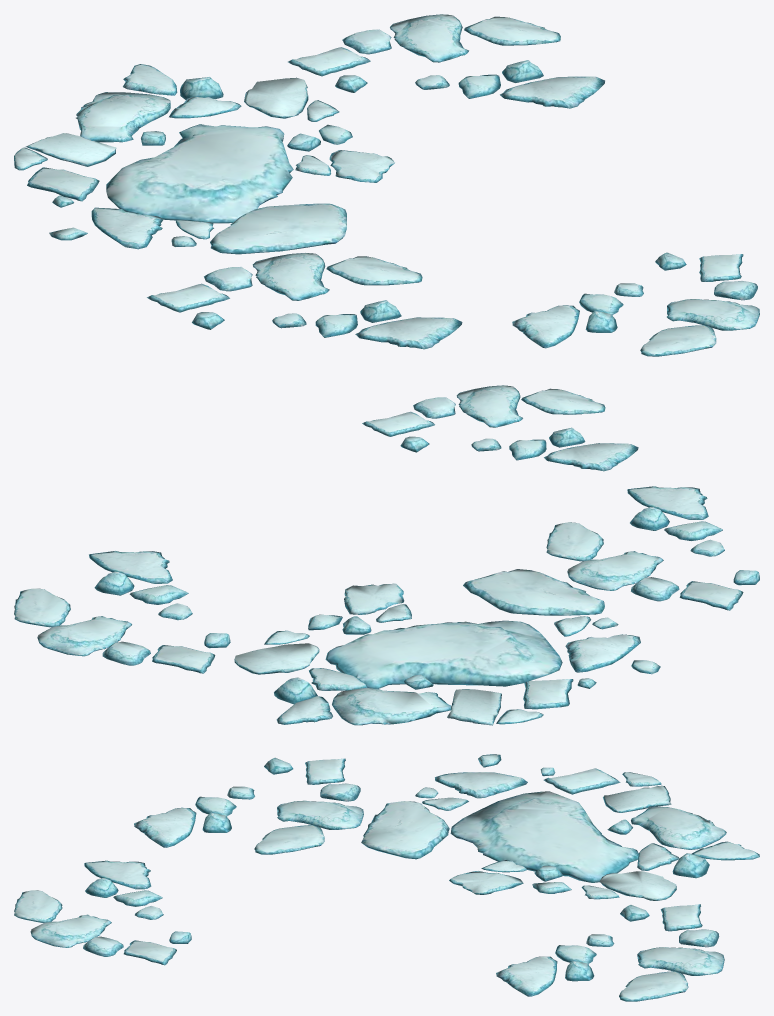
The model's file is ice_sheet_med_1.glb.
The picture shows the model from 3 angles, top to bottom: view 1: azimuth 30°, elevation 25°; view 2: azimuth 150°, elevation 25°; view 3: azimuth 270°, elevation 25°; orthographic projection. The views are drawn at different scales.
Visible parts, largest first — view 1: ice_sheet_e, ice_sheet_h (×3); view 2: ice_sheet_e, ice_sheet_h (×3); view 3: ice_sheet_e, ice_sheet_h (×3).
Part boxes in pixels (bbox=[...]): ice_sheet_e: bbox=[14, 64, 394, 254]; ice_sheet_h (×3): bbox=[147, 14, 759, 356]; ice_sheet_e: bbox=[234, 569, 660, 725]; ice_sheet_h (×3): bbox=[14, 385, 759, 673]; ice_sheet_e: bbox=[361, 754, 759, 900]; ice_sheet_h (×3): bbox=[14, 757, 724, 1001].
Bounding box in the file's own units: 31.27 × 1.14 × 39.85.
Materials: 1 (1 with a texture image).
